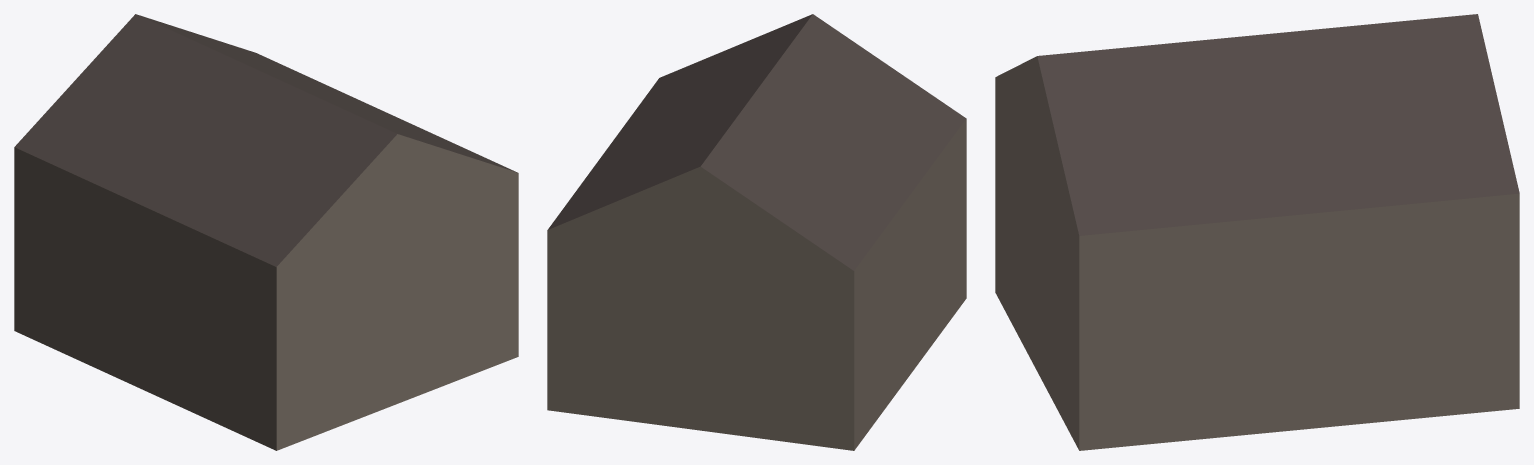
3 views of the same model, side by side, from view 1: azimuth 30°, elevation 25°; view 2: azimuth 150°, elevation 25°; view 3: azimuth 270°, elevation 25° (orthographic). The views are drawn at different scales.
Visible parts, largest first — view 1: HP-w1200743809; view 2: HP-w1200743809; view 3: HP-w1200743809.
Boxes of the visible parts, bbox=[...] form: HP-w1200743809: bbox=[14, 14, 518, 450]; HP-w1200743809: bbox=[547, 14, 966, 450]; HP-w1200743809: bbox=[995, 14, 1519, 450].
Size of the model in its own units: 12.02 by 8.81 by 13.27.
